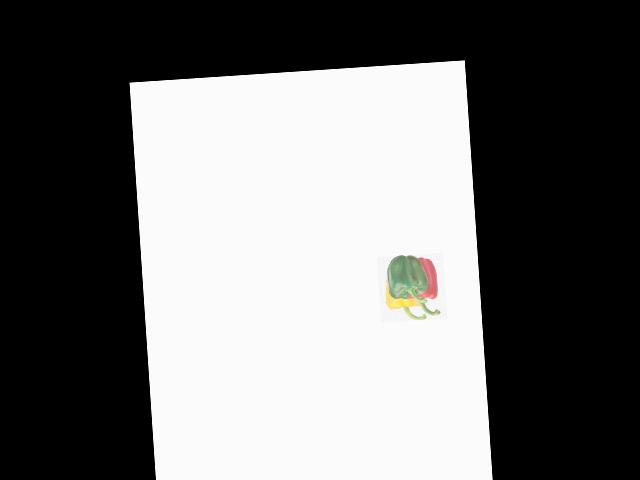bell_pepper: (405, 254, 447, 318)
